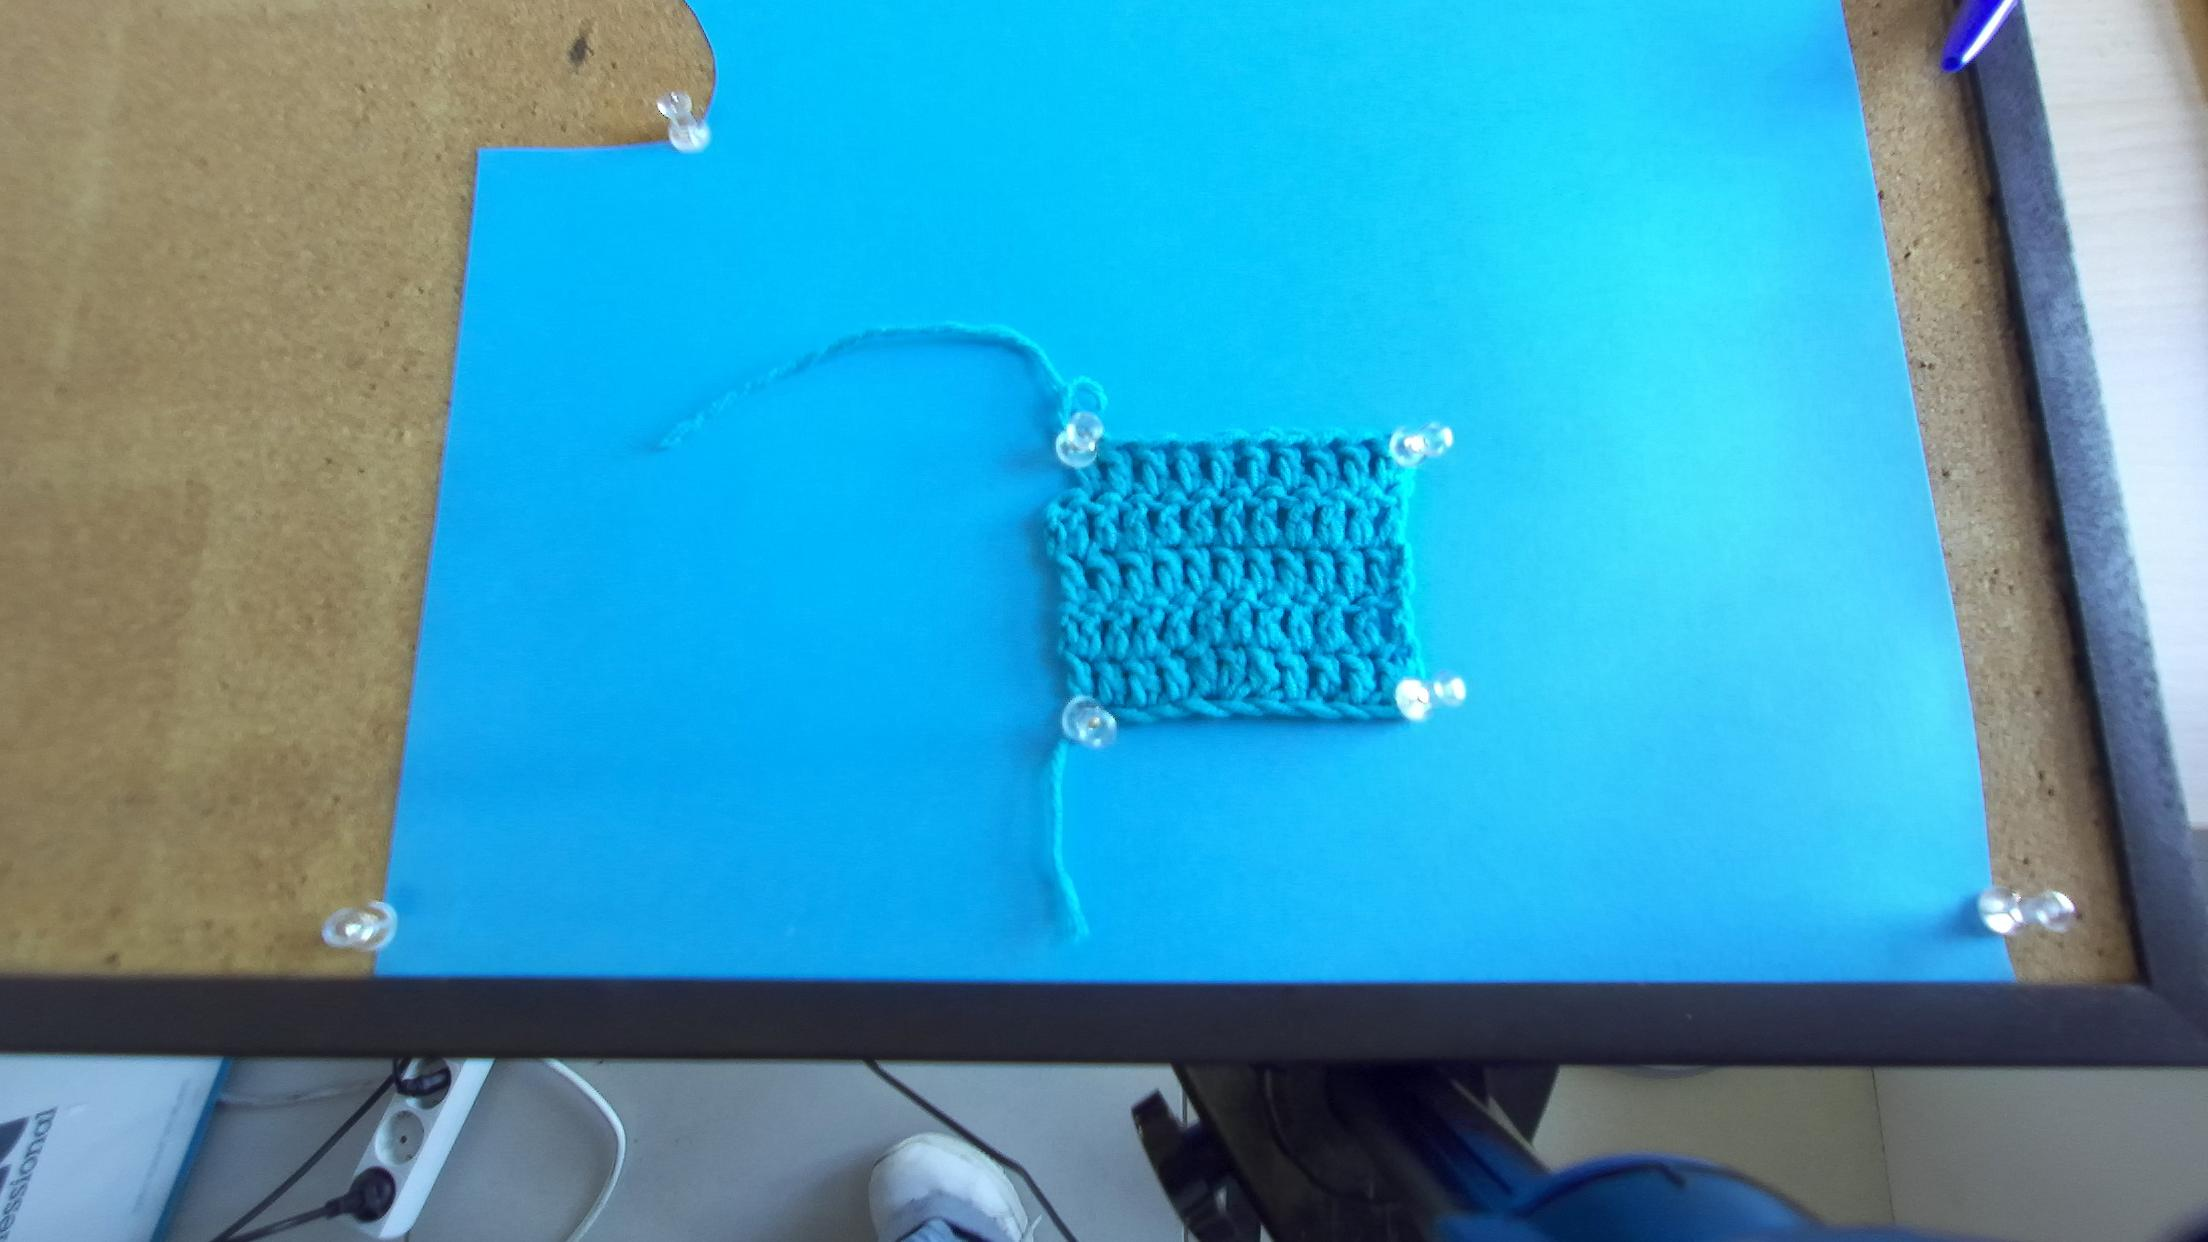hole: (1156, 441, 1178, 458), (1187, 443, 1209, 459), (1224, 440, 1245, 456), (1322, 437, 1344, 453), (1116, 441, 1139, 456), (1289, 441, 1309, 455), (1254, 440, 1275, 452), (1359, 437, 1375, 452)
swatch: (1040, 419, 1450, 732)
